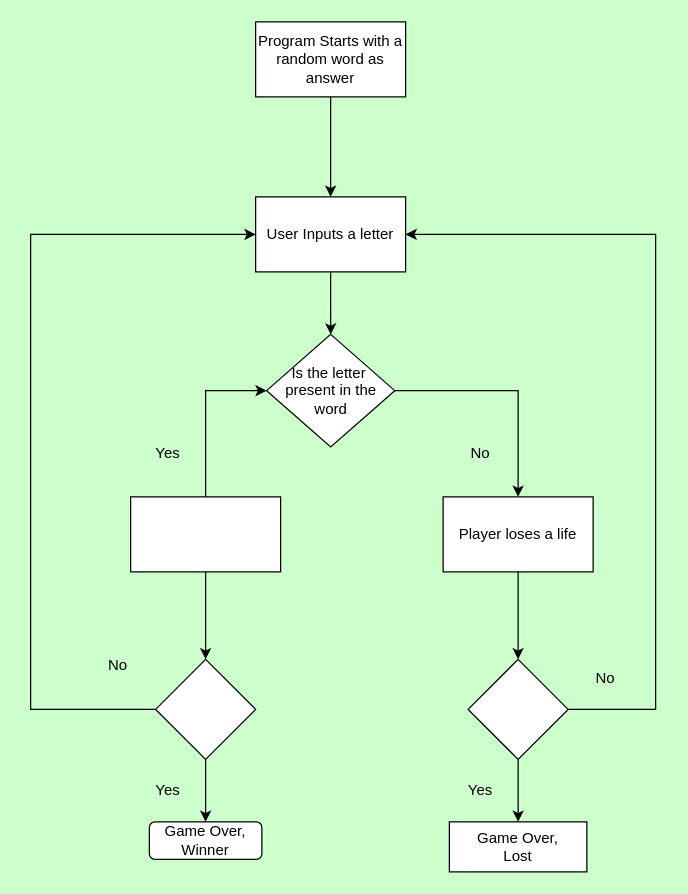
Image size: 688x894. Some labels were removed from this diagram. The box of each missing label's shape, as (x1, y1, x2, y2) in pixels:
All blanks filled?: (154, 658, 256, 759)
All lives lost: (467, 658, 568, 759)
Replace the blank with the letter: (129, 496, 281, 572)
